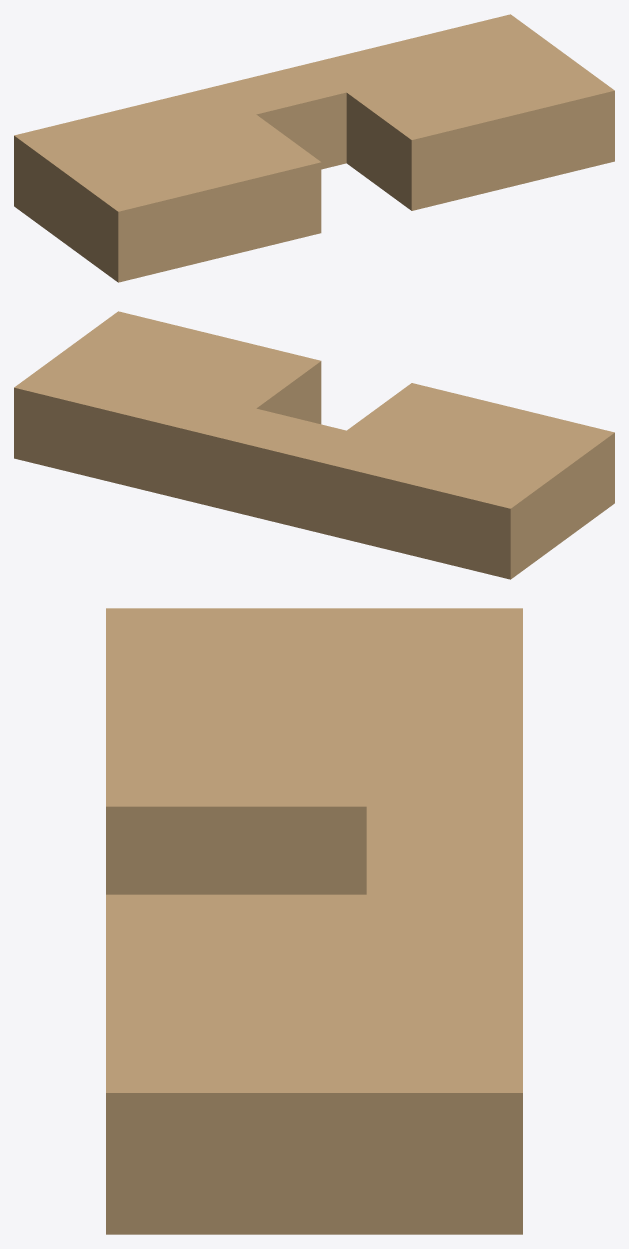
The model's file is prop-router-plane-body-rp1.fbx.
3 renders of one model, top to bottom at view 1: azimuth 30°, elevation 25°; view 2: azimuth 150°, elevation 25°; view 3: azimuth 270°, elevation 25°, orthographic. The views are drawn at different scales.
Parts seen in each view (by area): view 1: prop-router-plane-body-rp1; view 2: prop-router-plane-body-rp1; view 3: prop-router-plane-body-rp1.
Part boxes in pixels (left/top/right/bottom): prop-router-plane-body-rp1: left=14, top=14, right=614, bottom=282; prop-router-plane-body-rp1: left=14, top=311, right=614, bottom=579; prop-router-plane-body-rp1: left=106, top=608, right=522, bottom=1234.
Size of the model in its own units: 22 by 3 by 8.
